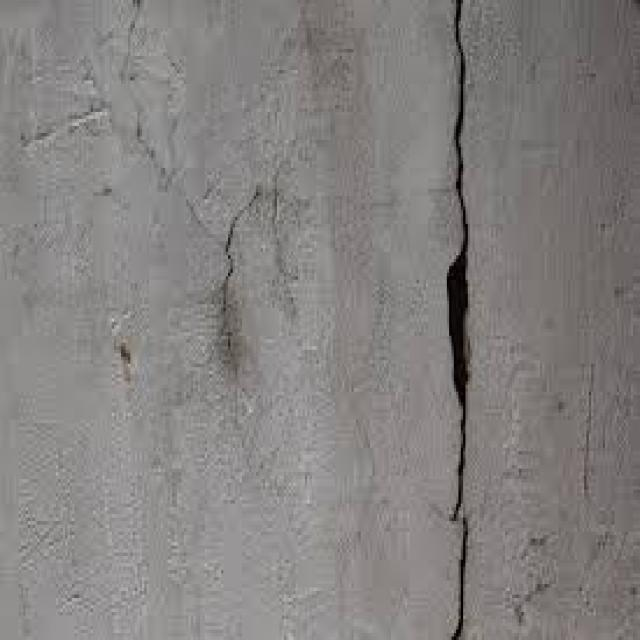Crack: (442, 0, 470, 637)
